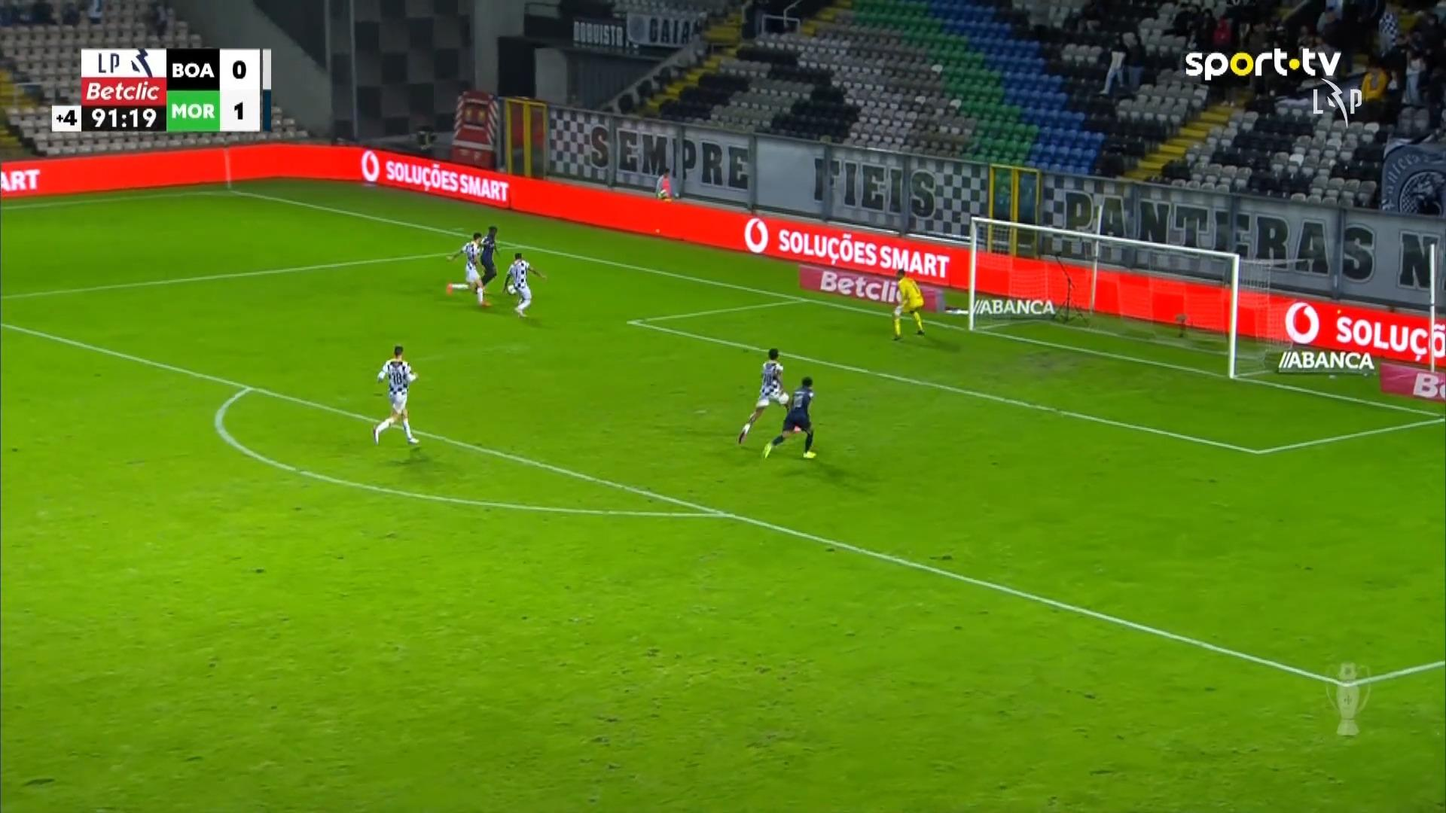ball: (507, 283, 517, 295)
goalkeeper: (890, 266, 926, 340)
player: (737, 347, 790, 444), (371, 344, 420, 446), (761, 376, 817, 459), (444, 231, 492, 306), (502, 251, 546, 318), (476, 224, 500, 291)
